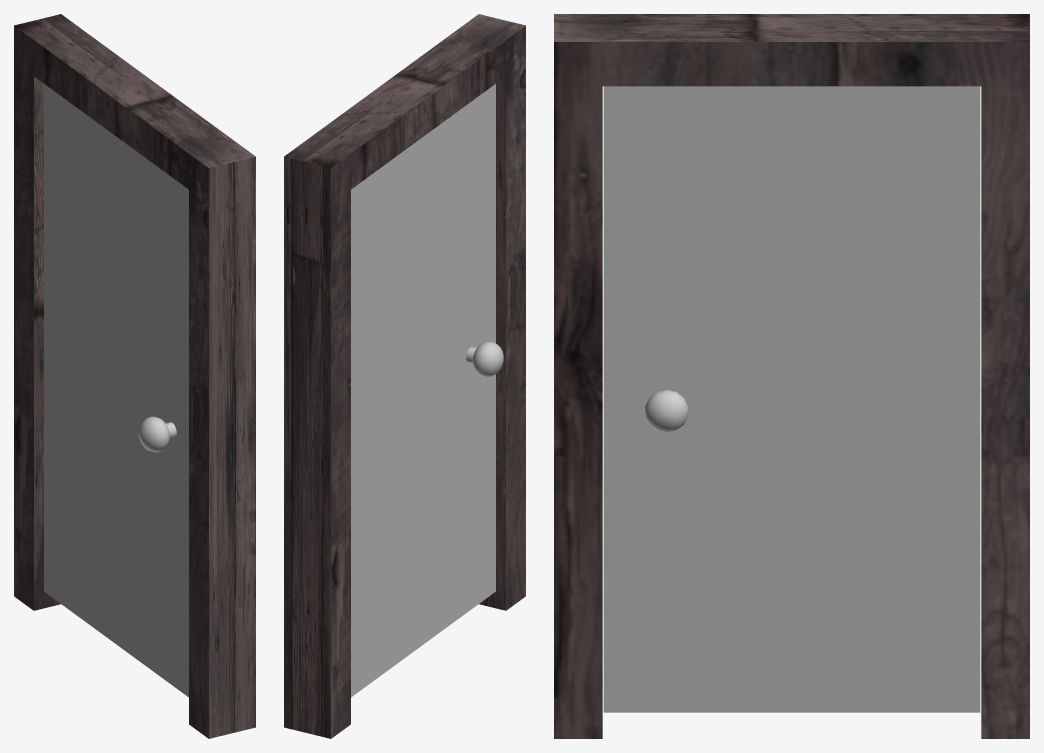
Rendered from Door 1 (OLD).fbx.
3 renders of one model, left to right at view 1: azimuth 30°, elevation 25°; view 2: azimuth 150°, elevation 25°; view 3: azimuth 270°, elevation 25°, orthographic. The views are drawn at different scales.
Visible parts, largest first — view 1: Prefab_Door, Prefab_Door_Frame, Prefab_Door_Handle2; view 2: Prefab_Door, Prefab_Door_Frame, Prefab_Door_Handle2; view 3: Prefab_Door, Prefab_Door_Frame, Prefab_Door_Handle3.
Part boxes in pixels (left/top/right/bottom): Prefab_Door: left=44, top=84, right=188, bottom=697; Prefab_Door_Frame: left=14, top=14, right=255, bottom=738; Prefab_Door_Handle2: left=139, top=416, right=169, bottom=452; Prefab_Door: left=351, top=84, right=495, bottom=697; Prefab_Door_Frame: left=284, top=14, right=525, bottom=738; Prefab_Door_Handle2: left=472, top=341, right=503, bottom=377; Prefab_Door: left=603, top=86, right=980, bottom=712; Prefab_Door_Frame: left=554, top=14, right=1029, bottom=738; Prefab_Door_Handle3: left=645, top=390, right=688, bottom=432.
Bounding box in the file's own units: 0.5928 × 3.6 × 2.23.
